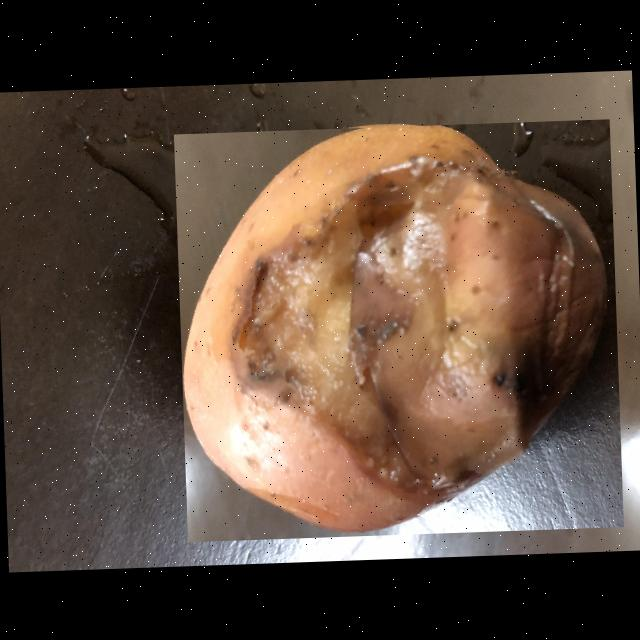Damaged potato: (174, 118, 624, 541)
